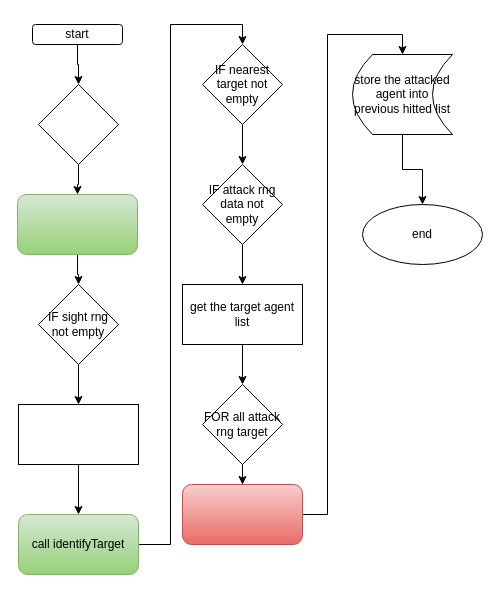
The diagram is 500 pixels wide and 592 high, and some of its shapes have lost their labels. The centre of each missing label's shape, as x and y in pixels:
call reduceHp: the point at 242,514
call searchTarget: the point at 77,224
construct the filter object: the point at 78,434
IF vehicle has attack and sight range data: the point at 78,124
